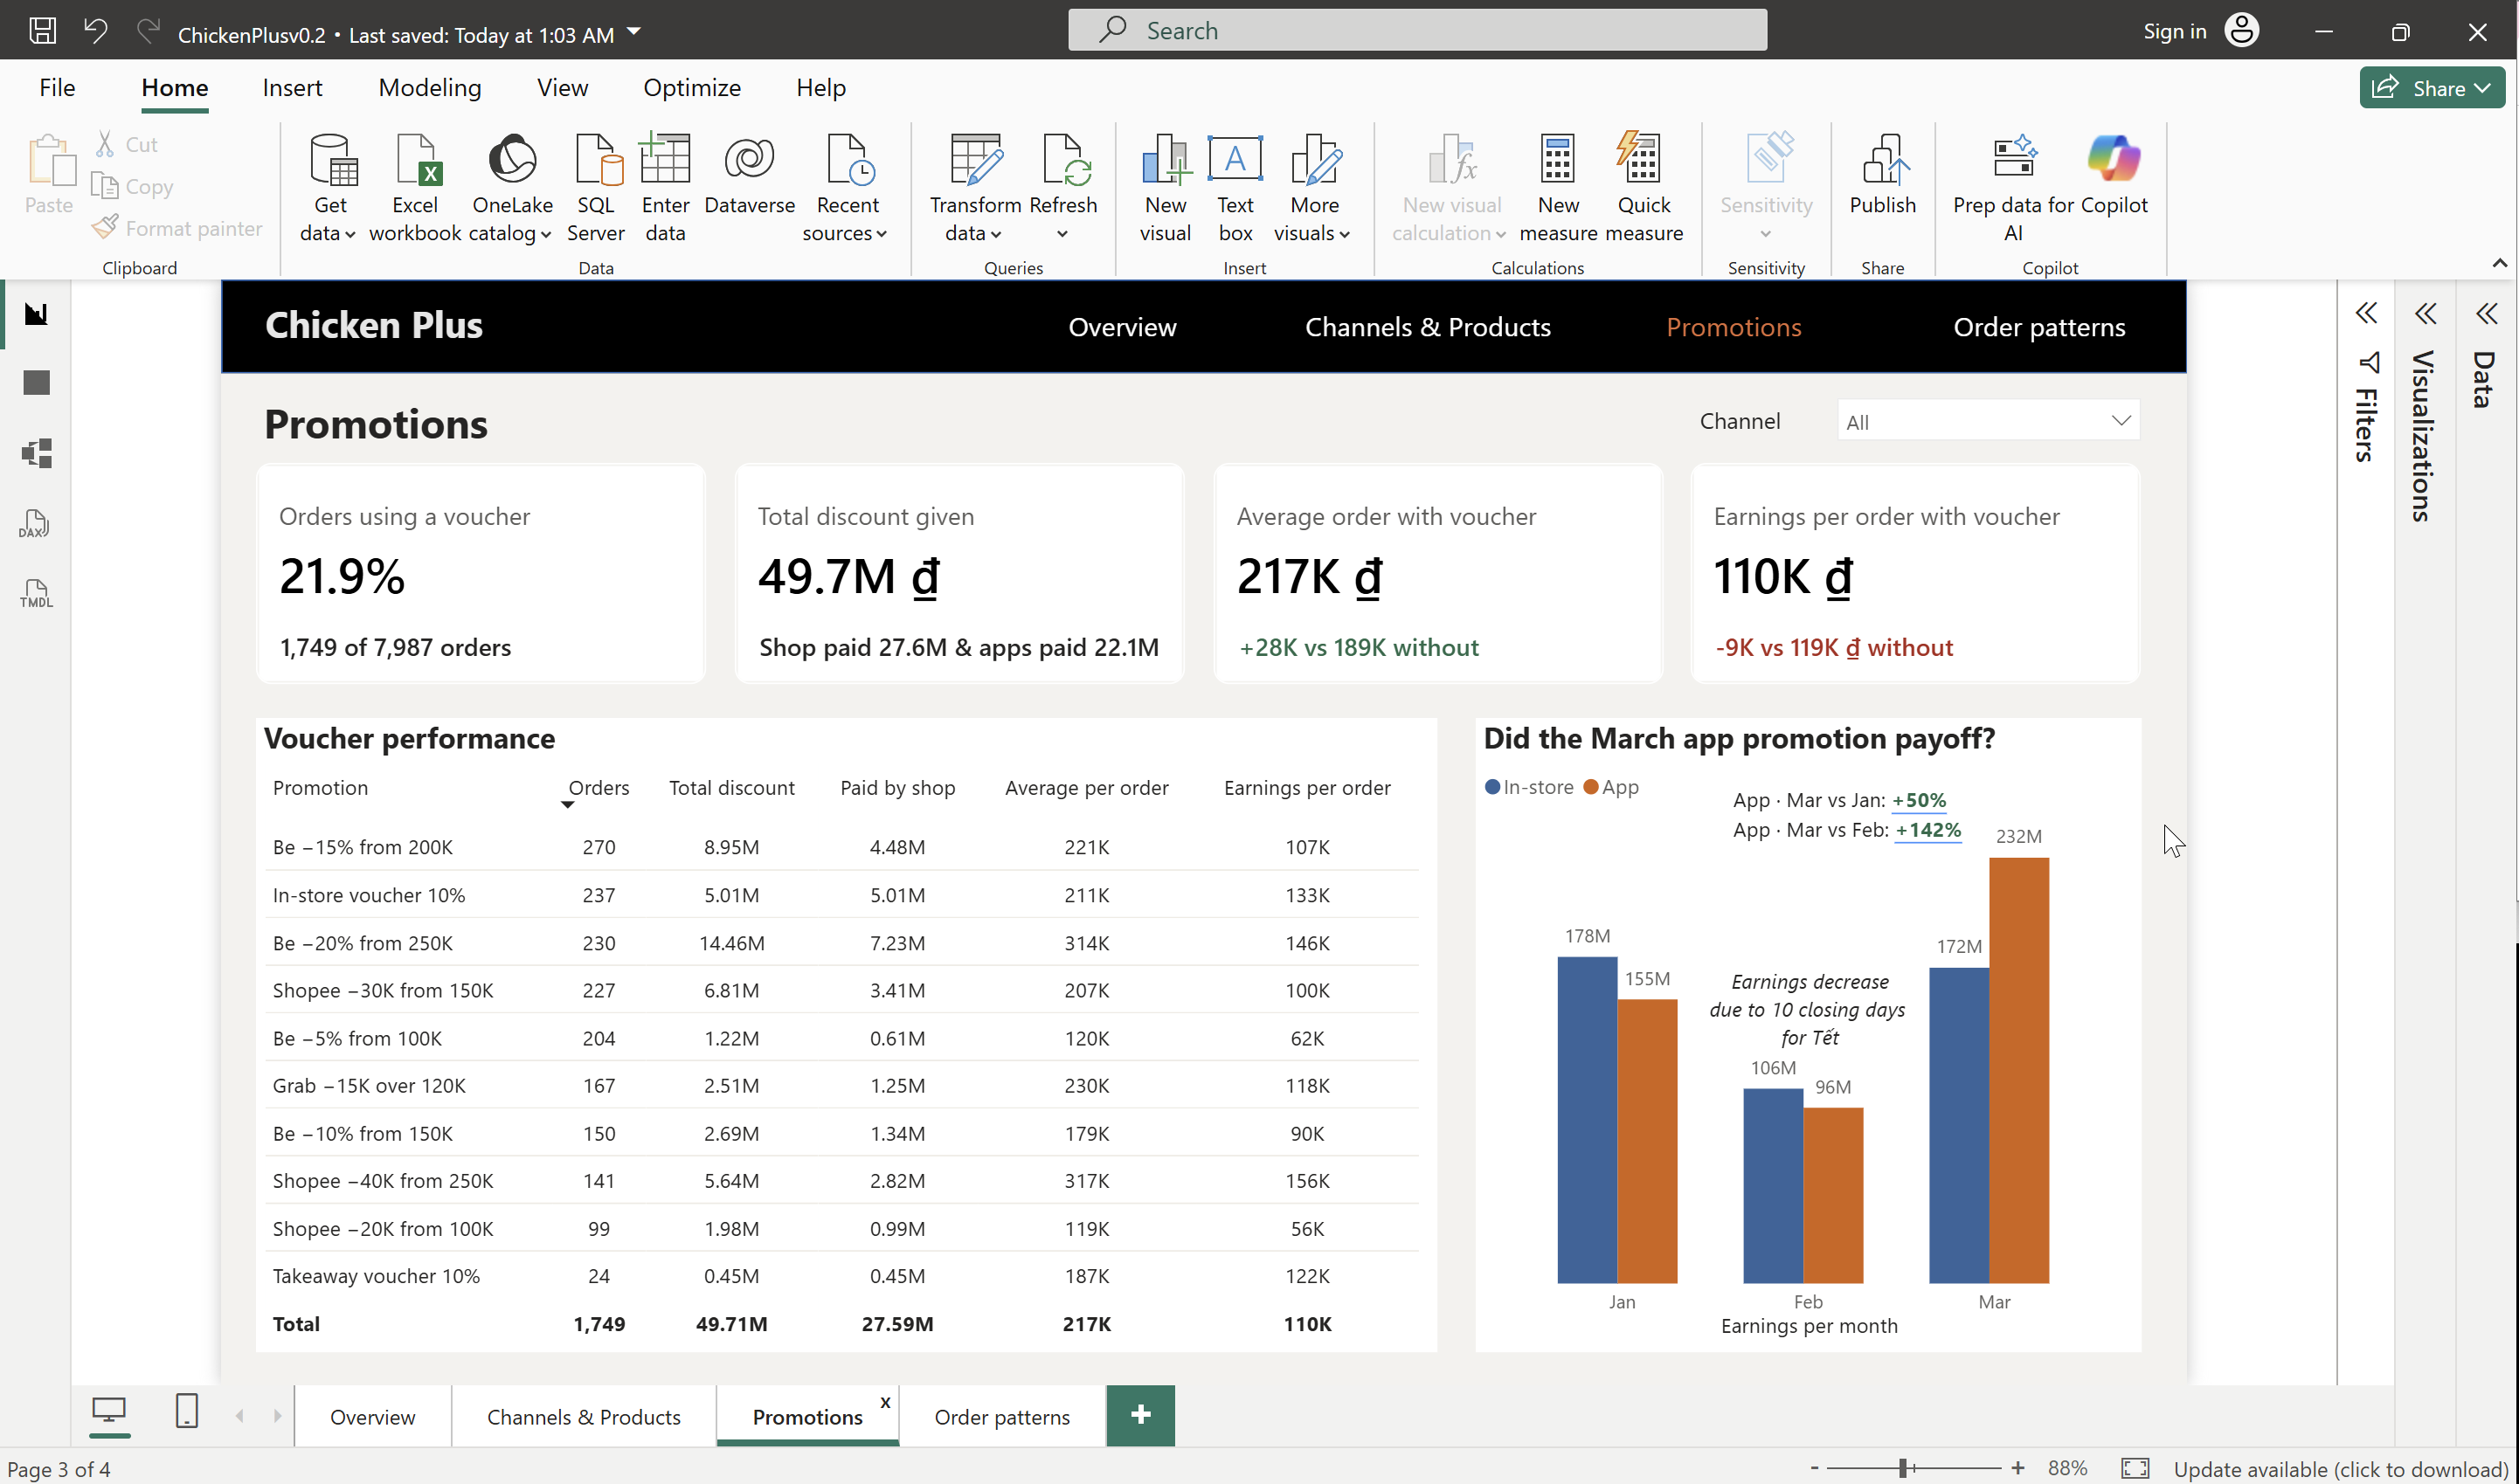

Layout of this report page (visuals, bound fields, positions):
{"tool":"powerbi","page":{"name":"Promotions","canvas":[1280,720],"ordinal":2},"visuals":[{"type":"group","id":"g1","title":"Header","box":[0,0,1280,73.9],"z":0},{"type":"shape","box":[0,0,1280,61.2],"z":0,"group":"g1"},{"type":"textbox","box":[23.5,6.7,199.9,67.2],"z":1000,"group":"g1"},{"type":"textbox","box":[23,68.9,324.6,50.5],"z":1000},{"type":"pageNavigator","box":[493,6,787,49],"z":2000,"group":"g1"},{"type":"slicer","fields":{"Values":["orders.CHANNEL"]},"box":[1041.6,67.6,218,43.3],"z":2000},{"type":"textbox","box":[957.5,76.5,93.1,34.4],"z":3000},{"type":"cardVisual","fields":{"Data":["_Measure.Total Discount Card"]},"box":[334.3,119.8,293,144.1],"z":4000},{"type":"cardVisual","fields":{"Data":["_Measure.Promo Order Share %"]},"box":[22.9,119.8,293,144],"z":5000},{"type":"cardVisual","fields":{"Data":["_Measure.AOV with Promo"]},"box":[645.6,119.8,293,144.1],"z":6000},{"type":"cardVisual","fields":{"Data":["_Measure.EPO with Promo"]},"box":[957,119.8,293,144.1],"z":7000},{"type":"tableEx","title":"Voucher performance","fields":{"Values":["promotions.promotion_name_en","_Measure.Orders","_Measure.Total Discount","_Measure.Restaurant Discounts","_Measure.AOV","_Measure.Earnings per Order"]},"box":[22.9,285.6,768.8,413.1],"z":8000},{"type":"clusteredColumnChart","title":"Did the March app promotion payoff?","fields":{"Category":["date.Month"],"Series":["orders.Channel Type"],"Y":["_Measure.Earnings"]},"box":[817.2,285.6,433.5,413.1],"z":9000},{"type":"textbox","box":[971.5,666.8,308.5,44.6],"z":10000},{"type":"textbox","box":[979.1,323.8,168.3,72.7],"z":11000},{"type":"textbox","box":[949.8,442.4,169.6,77.8],"z":12000}]}

Visuals, with their boxes on the page's 1280x720 design canvas (x1, y1, x2, y2). These are canvas units, not pixel positions in the 2519x1484 screenshot, which may show the page scaled, cropped or inside an application window:
"Header" group: [0,0,1280,74]
shape: [0,0,1280,61]
textbox: [24,7,223,74]
textbox: [23,69,348,119]
pageNavigator: [493,6,1280,55]
slicer - orders.CHANNEL: [1042,68,1260,111]
textbox: [958,76,1051,111]
cardVisual - _Measure.Total Discount Card: [334,120,627,264]
cardVisual - _Measure.Promo Order Share %: [23,120,316,264]
cardVisual - _Measure.AOV with Promo: [646,120,939,264]
cardVisual - _Measure.EPO with Promo: [957,120,1250,264]
"Voucher performance" tableEx: [23,286,792,699]
"Did the March app promotion payoff?" clusteredColumnChart: [817,286,1251,699]
textbox: [972,667,1280,711]
textbox: [979,324,1147,396]
textbox: [950,442,1119,520]
